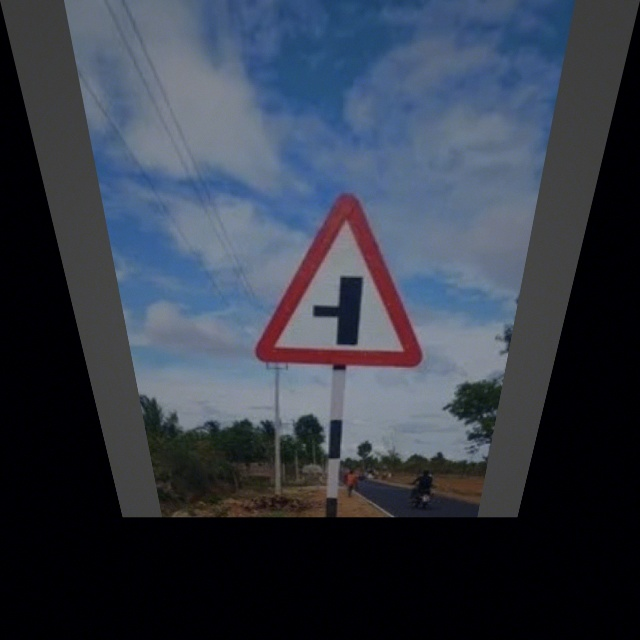Side_Road_Left: (245, 201, 445, 371)
